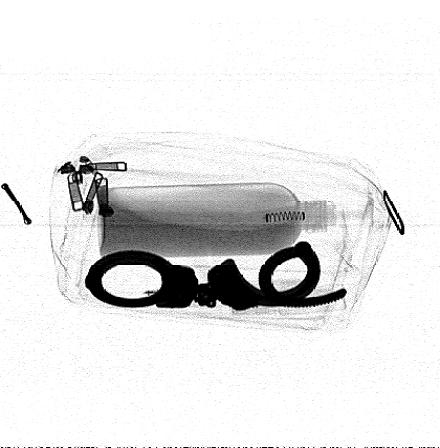HandCuffs: (85, 242, 348, 313)
